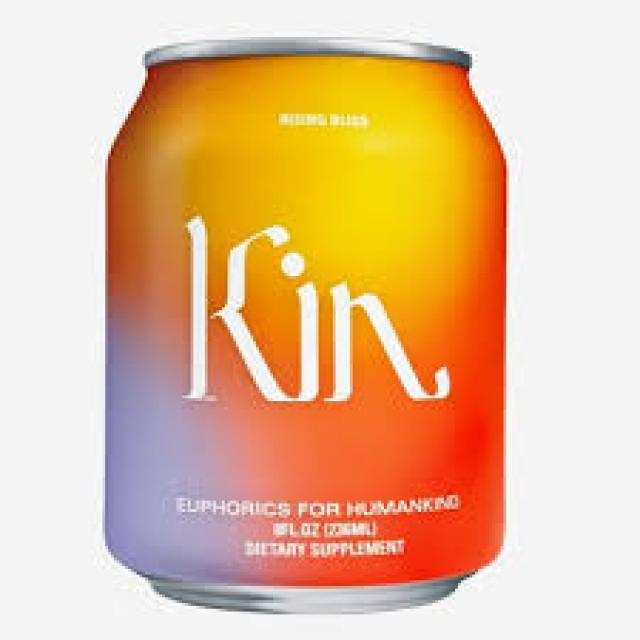Cans: (91, 25, 521, 626)
